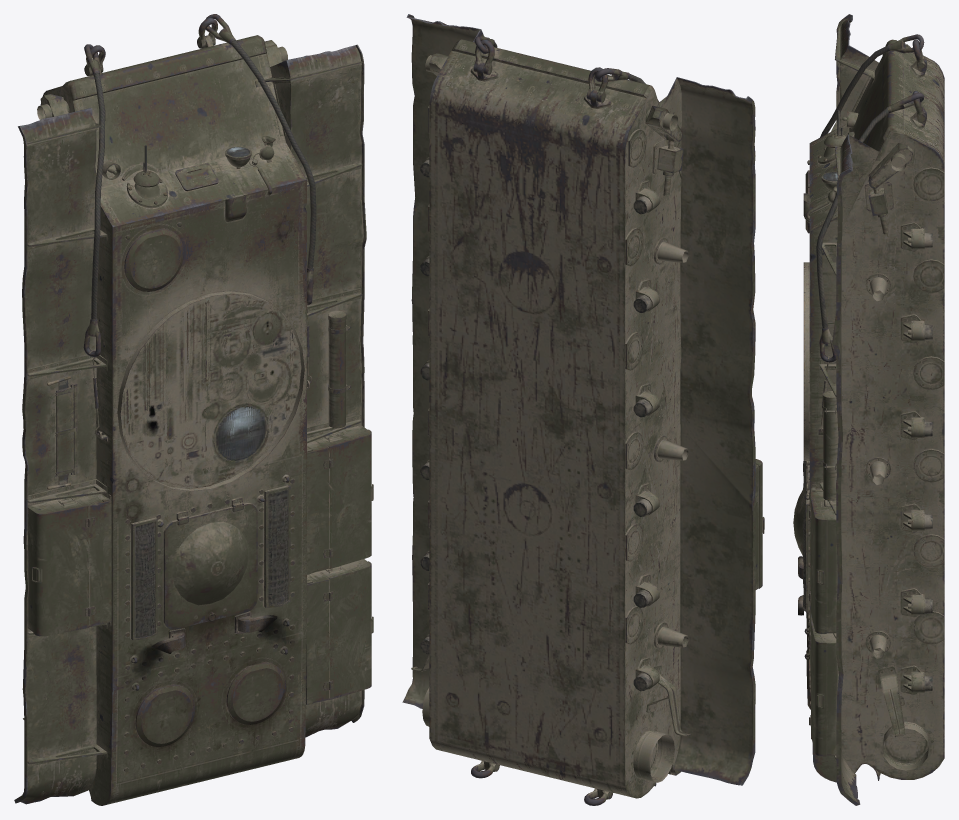
The model's file is Hull.glb.
The picture shows the model from 3 angles, left to right: view 1: azimuth 30°, elevation 25°; view 2: azimuth 150°, elevation 25°; view 3: azimuth 270°, elevation 25°; orthographic projection. The views are drawn at different scales.
Parts seen in each view (by area): view 1: set_0_group_0; view 2: set_0_group_0; view 3: set_0_group_0.
Part boxes in pixels (left/top/right/bottom): set_0_group_0: left=14, top=14, right=373, bottom=805; set_0_group_0: left=402, top=14, right=764, bottom=805; set_0_group_0: left=793, top=14, right=944, bottom=805.
Size of the model in its own units: 3.32 by 6.78 by 1.36.
1 material, 1 textured.
